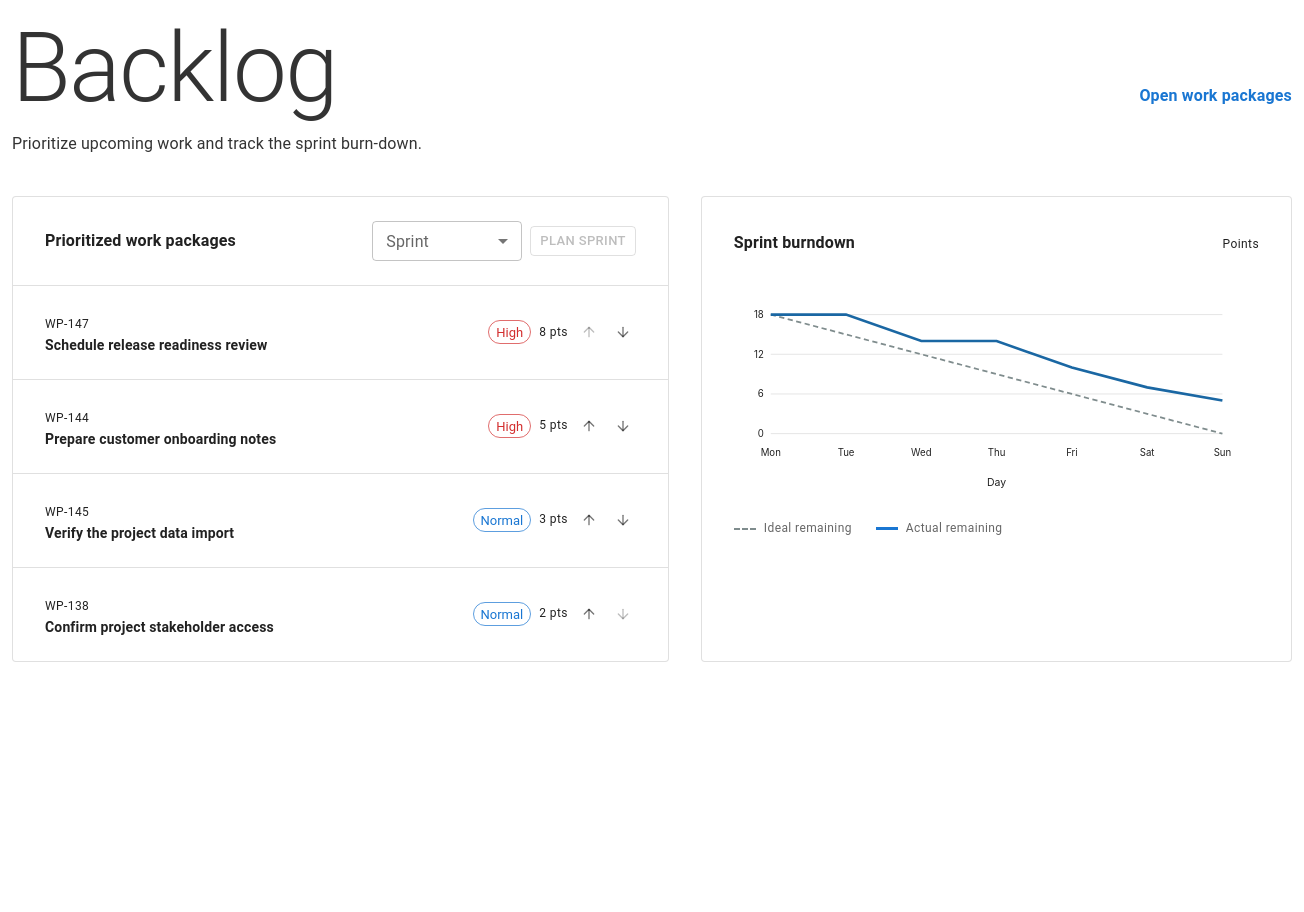
ProjectBacklog › reorders work packages with keyboard-accessible controls and shows sprint assignment
The image size is (1304, 912).
Click the button named "Move WP-144 up": (589, 426) [576,413,602,439]
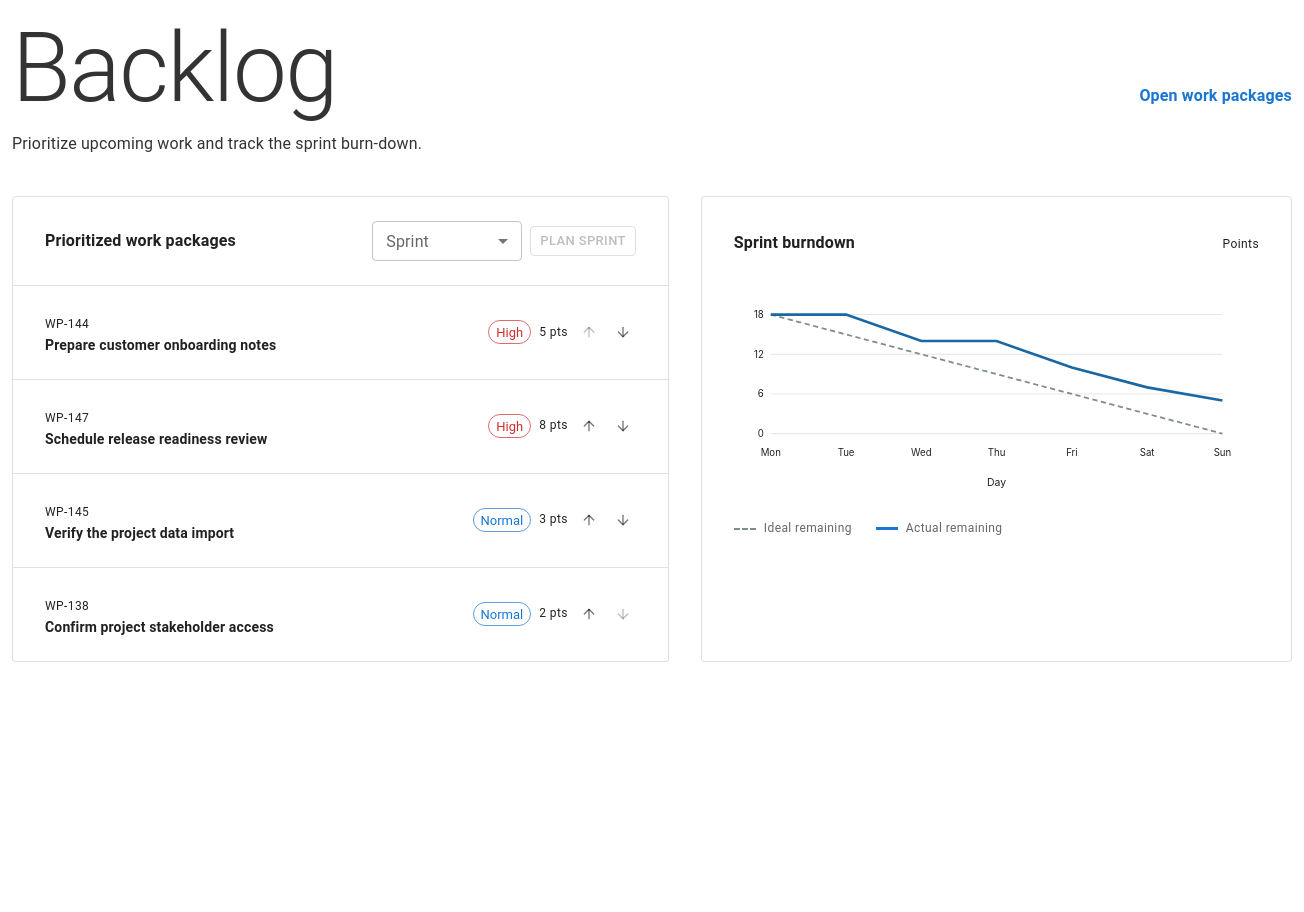
Check: the list item "WP-144 Prepare customer onboarding notes High 5 pts" is shown, box [45,317,636,353]
Click the dropdown named "Sprint": (447, 241) [372,221,522,261]
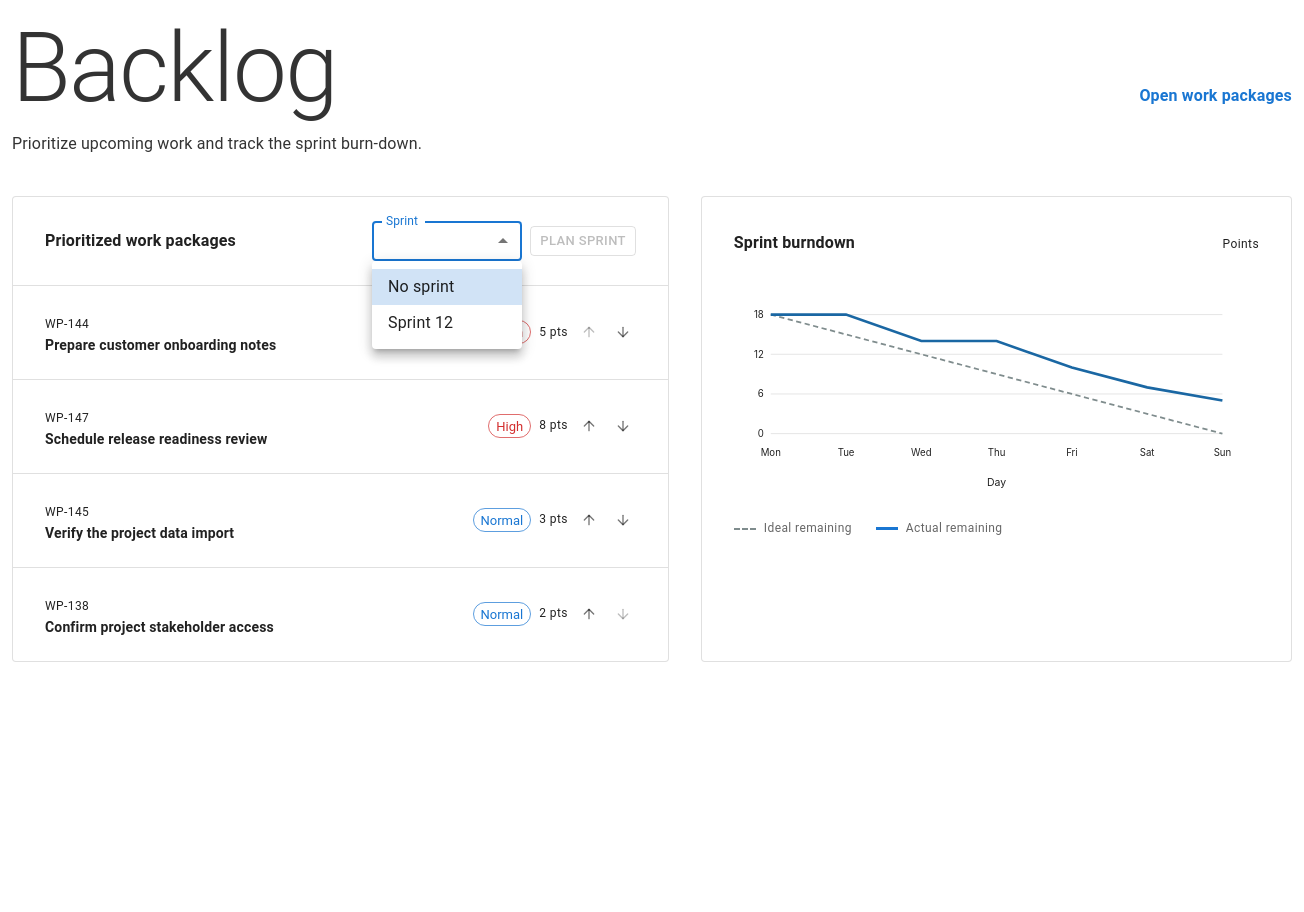
Click the option "Sprint 12": (421, 322) [388,313,453,332]
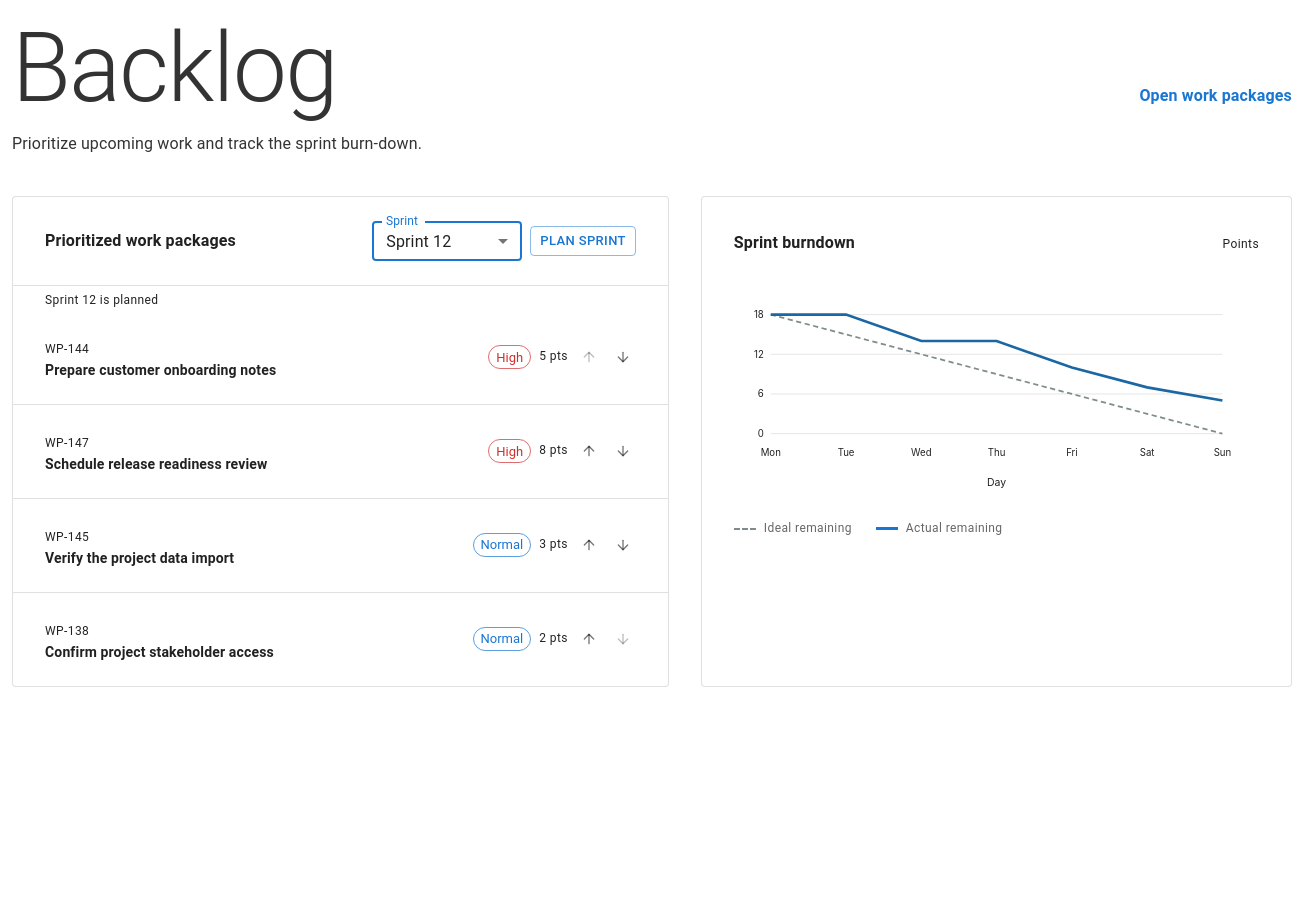
Check: the text "Sprint 12 is planned" is shown, box [45,293,158,307]
